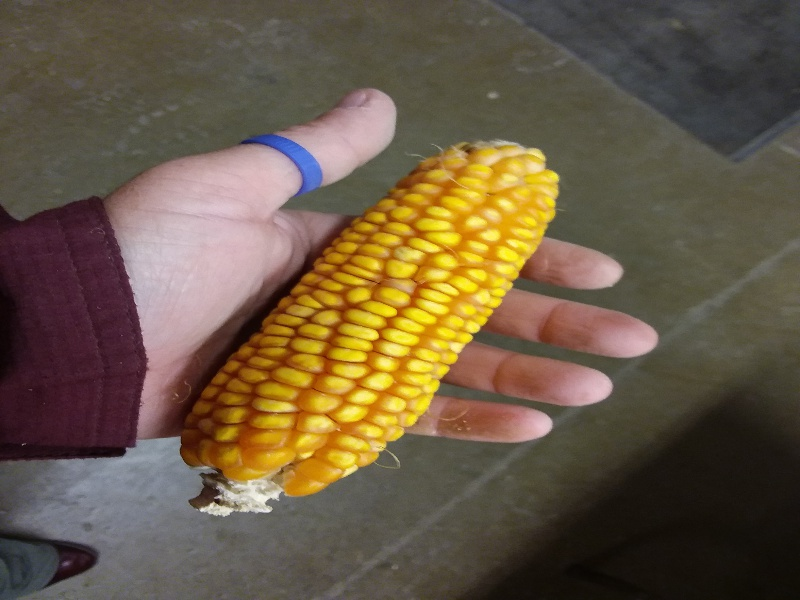band: (239, 132, 327, 195)
ear: (174, 135, 566, 522)
